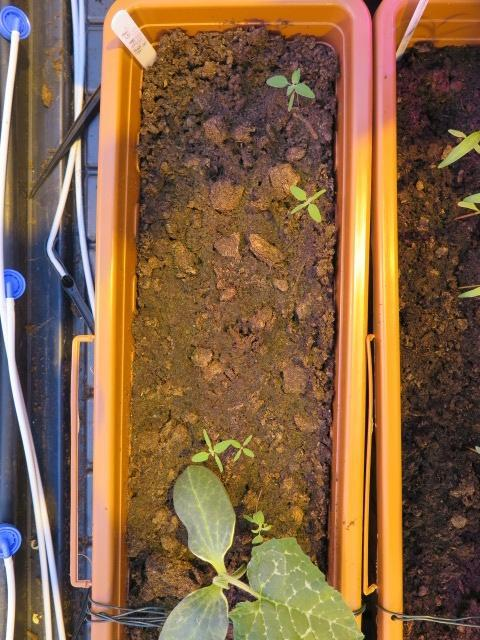weed: (263, 56, 315, 121), (286, 182, 327, 225)
